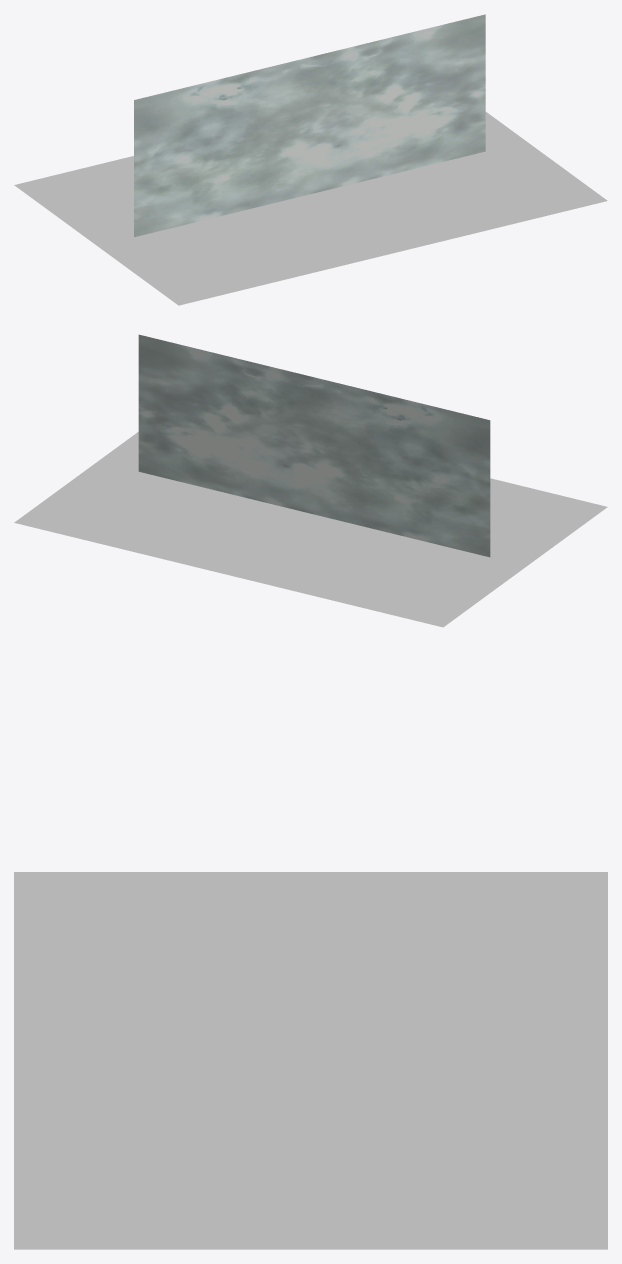
The model's file is guangmu.FBX.
The picture shows the model from 3 angles, top to bottom: view 1: azimuth 30°, elevation 25°; view 2: azimuth 150°, elevation 25°; view 3: azimuth 270°, elevation 25°; orthographic projection. The views are drawn at different scales.
Parts seen in each view (by area): view 1: Plane002, Plane001; view 2: Plane002, Plane001; view 3: Plane001.
Boxes of the visible parts, x1,y1,x2,y2 form: Plane002: [134, 14, 485, 237]; Plane001: [14, 112, 607, 305]; Plane002: [138, 334, 490, 557]; Plane001: [14, 432, 607, 627]; Plane001: [14, 872, 607, 1249].
Size of the model in its own units: 16.25 by 5 by 10.8.
